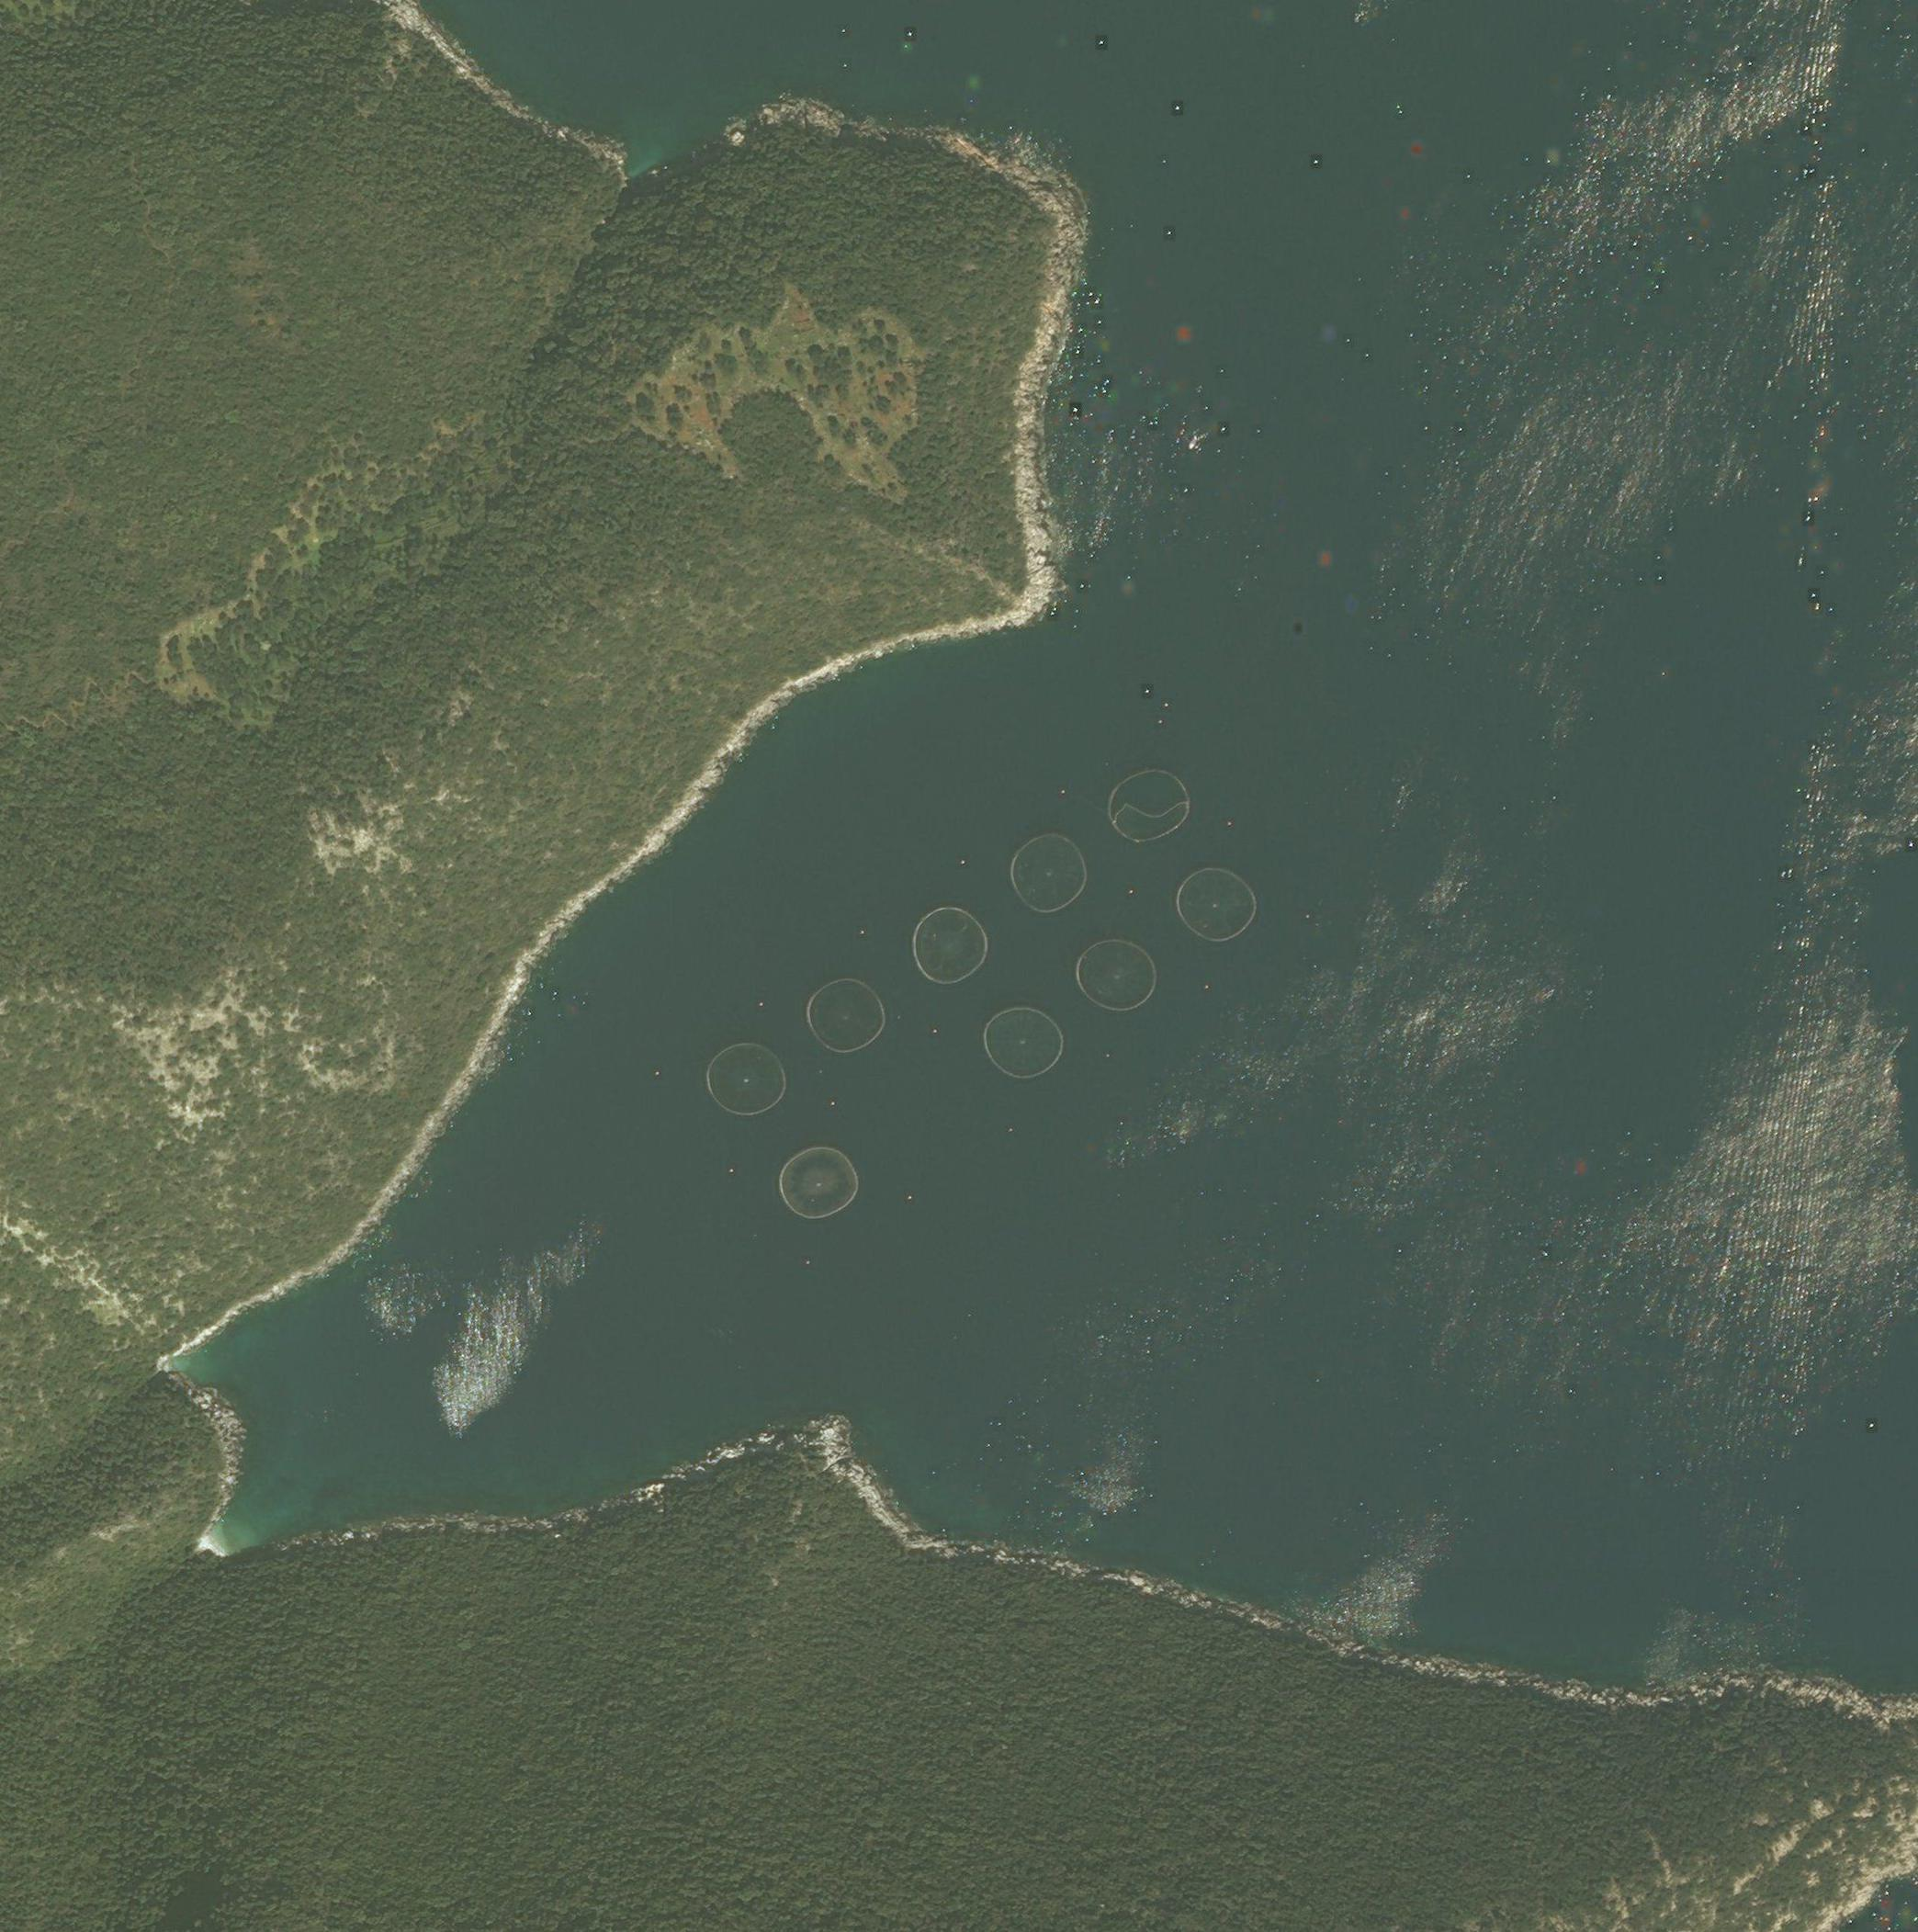c: (1105, 768, 1193, 847), (1173, 864, 1259, 943), (1008, 831, 1089, 913), (910, 905, 989, 987), (778, 1143, 861, 1222), (980, 1005, 1064, 1082), (804, 977, 885, 1054), (706, 1042, 787, 1119), (1073, 936, 1156, 1012)
